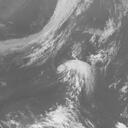cyclone: (56, 59, 94, 95)
